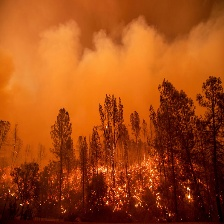fire: (2, 150, 92, 206), (95, 149, 169, 216), (180, 174, 195, 206)
smoke: (2, 4, 224, 142)
